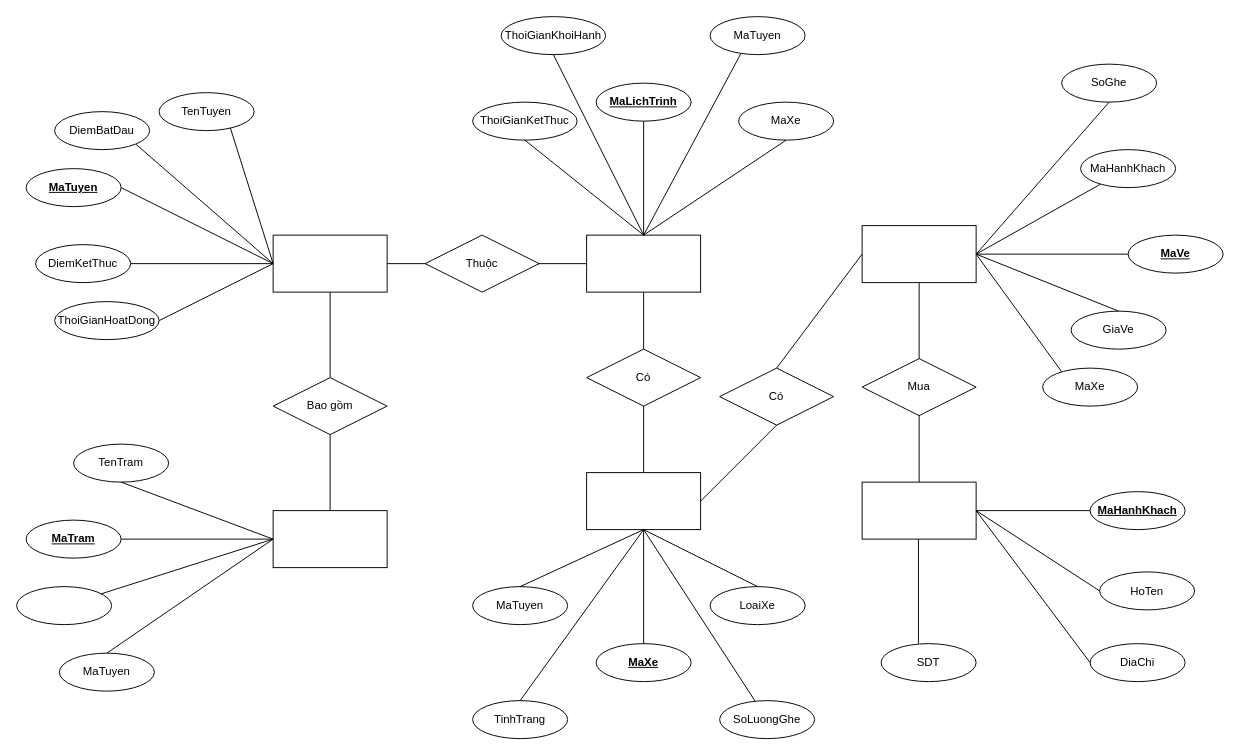
Image size: 1240x755. Some labels were removed from this diagram. The centre of each missing label's shape, as x and y in pixels:
"HanhKhach" goes at point 918,510.
"LichTrinh" goes at point 643,263.
"TramDung" goes at point 329,539.
"TuyenXe" goes at point 329,263.
"VeXeBus" goes at point 918,254.
"ViTri" goes at point 64,605.
"XeBus" goes at point 643,501.
